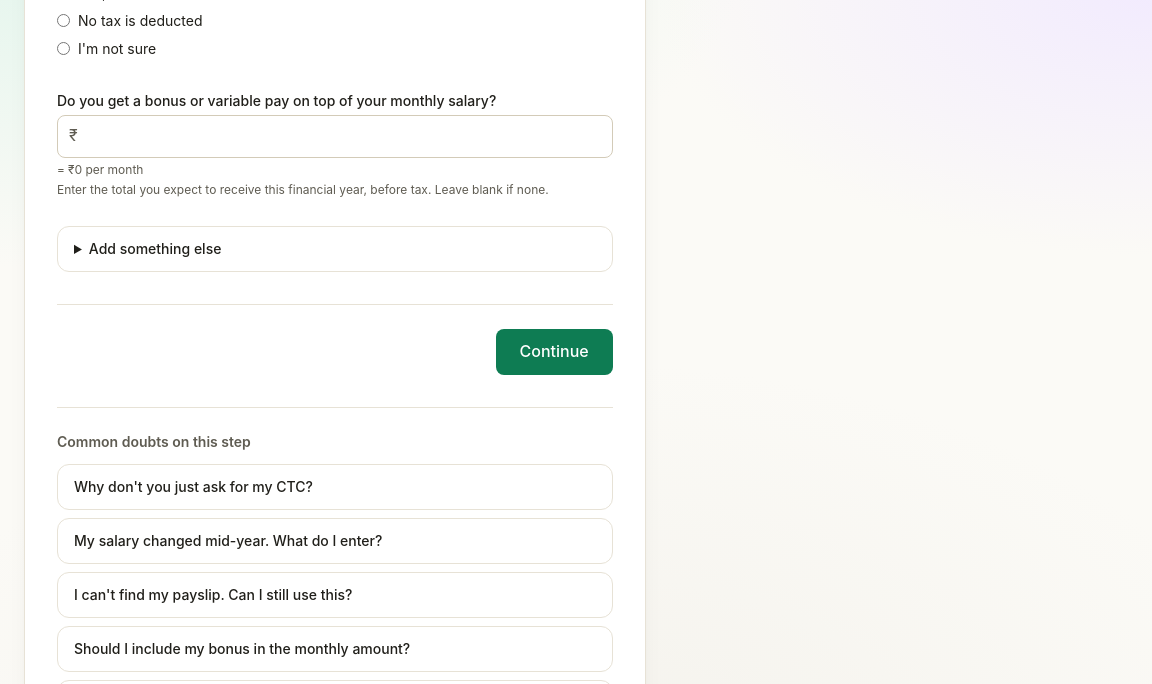
WizardShell — step 1 › blocks Continue until the required fields are answered
The image size is (1152, 684).
(page scrolled)
Click the button "Continue".
click(554, 352)  # box [496,329,613,375]
(page scrolled)
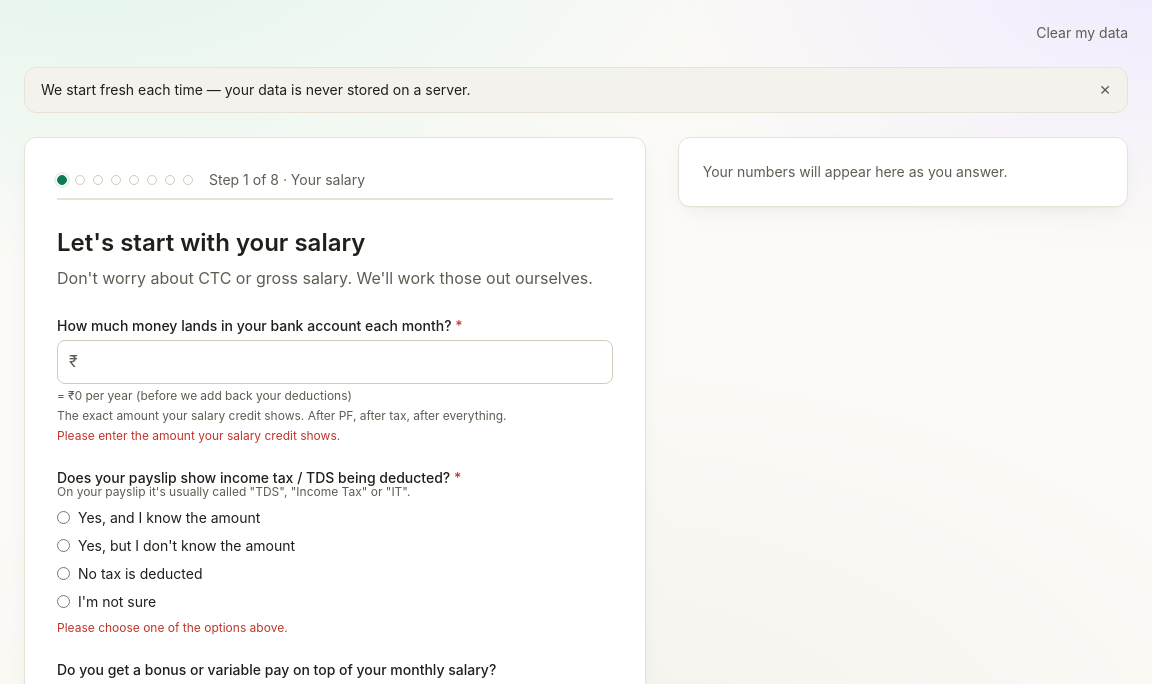
Check: the text "Step 1 of 8 · Your salary" is shown, box [209,170,365,190]
Check: the text "Please enter the amount your salary credit shows." is shown, box [57,428,340,443]
Check: the text "Please choose one of the options above." is shown, box [57,620,288,635]
